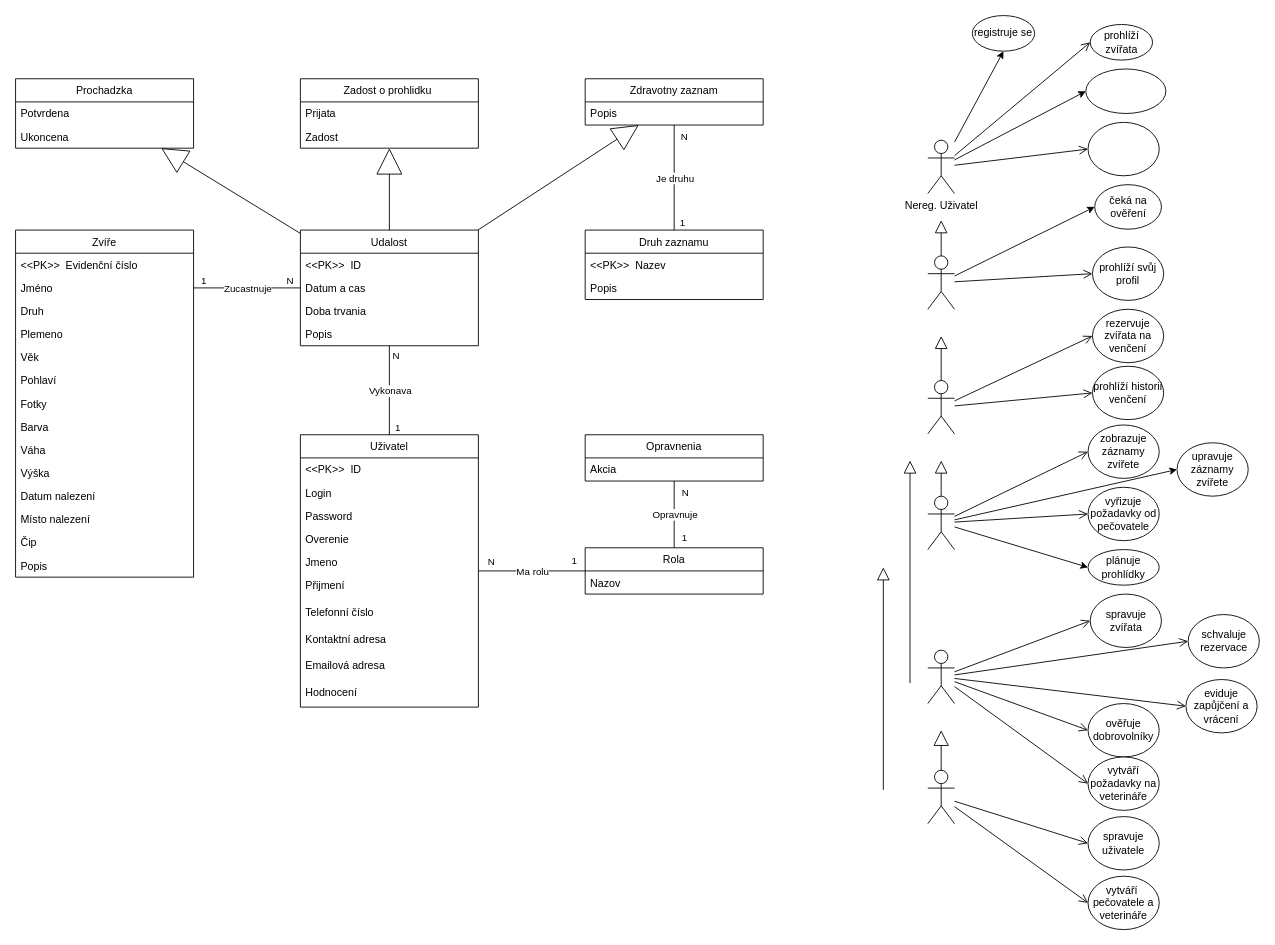
This 1275x945 diagram has some shape labels left out. The centre of each missing label's shape, as x and y in pixels:
"Administrátor" goes at (x=941, y=796).
"Dobrovolník" goes at (x=941, y=407).
"Pečovatel" goes at (x=941, y=676).
"prohlíží detaily zvířat" goes at (x=1125, y=90).
"prohlíží informace o útulku" goes at (x=1123, y=148).
"Reg. Uživatel" goes at (x=941, y=282).
"Veterinář" goes at (x=941, y=522).
